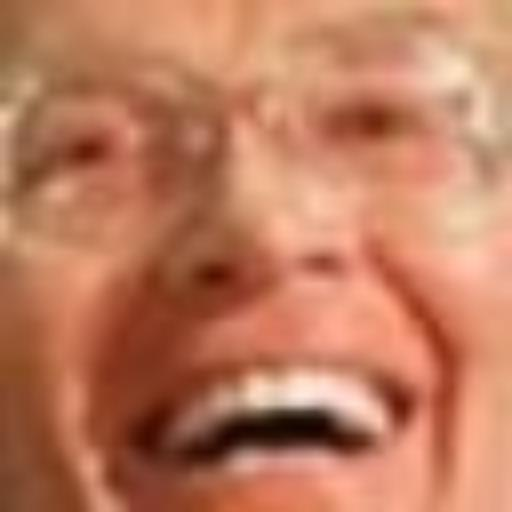left_eye: (323, 101, 434, 150)
left_lip_corner: (382, 373, 436, 418)
right_eye: (28, 123, 139, 190)
right_lip_corner: (114, 413, 177, 470)
